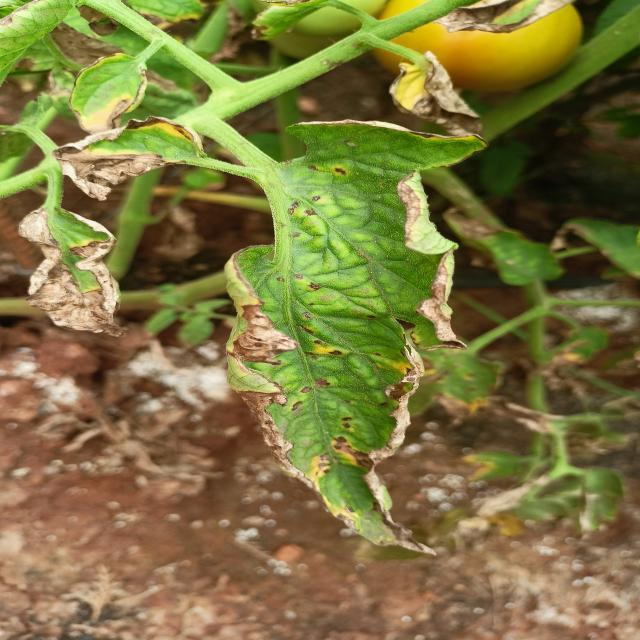Tomato mosaic virus leaf: (219, 118, 489, 563), (15, 206, 133, 344), (48, 115, 215, 205)
